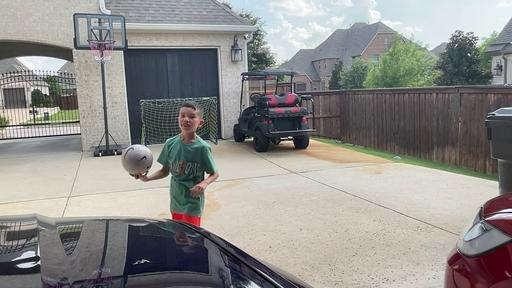ball: (122, 144, 154, 176)
human: (130, 102, 218, 228)
rim: (87, 38, 115, 62)
